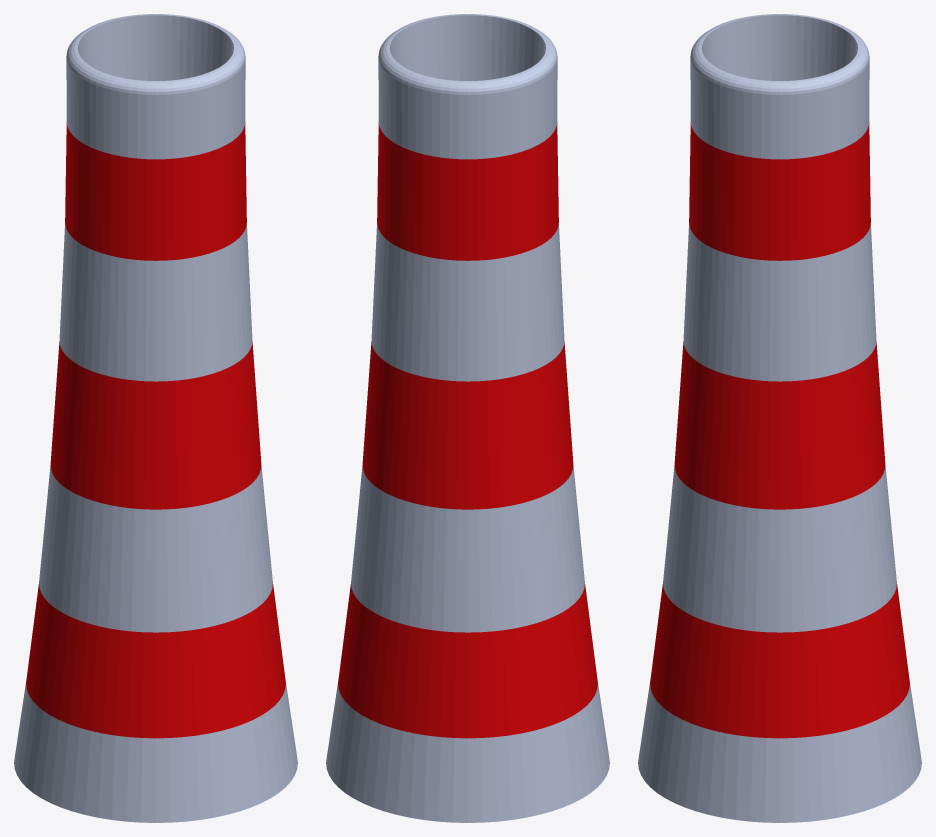
File: smokestack.fbx
The picture shows the model from 3 angles, left to right: view 1: azimuth 30°, elevation 25°; view 2: azimuth 150°, elevation 25°; view 3: azimuth 270°, elevation 25°; orthographic projection.
Visible parts, largest first — view 1: Smokestack; view 2: Smokestack; view 3: Smokestack.
Boxes of the visible parts, x1,y1,x2,y2 form: Smokestack: (14,14,297,822); Smokestack: (326,14,609,822); Smokestack: (638,14,921,822).
Size of the model in its own units: 238 by 660 by 238.
